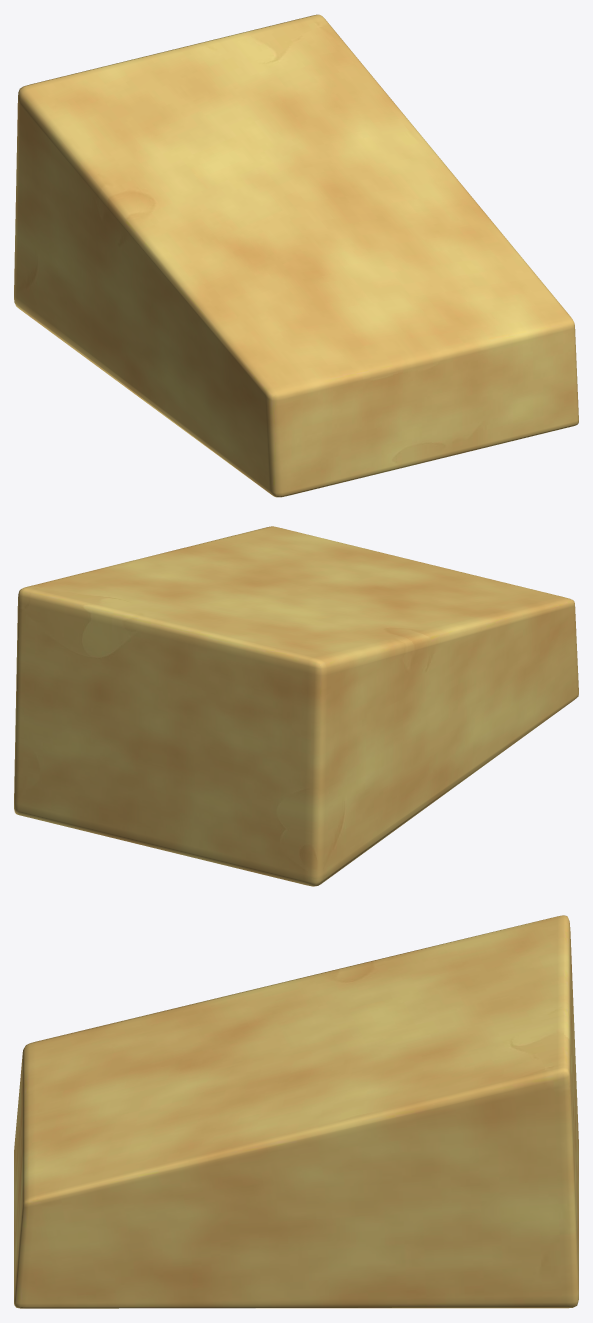
The model's file is cheese_wedge.glb.
The picture shows the model from 3 angles, top to bottom: view 1: azimuth 30°, elevation 25°; view 2: azimuth 150°, elevation 25°; view 3: azimuth 270°, elevation 25°; orthographic projection. The views are drawn at different scales.
Parts seen in each view (by area): view 1: Object_4; view 2: Object_4; view 3: Object_4.
Boxes of the visible parts, bbox=[...] form: Object_4: bbox=[14, 14, 578, 497]; Object_4: bbox=[14, 526, 578, 886]; Object_4: bbox=[14, 915, 578, 1308].
Bounding box in the file's own units: 0.0669 × 0.0469 × 0.1002.
Materials: 1 (1 with a texture image).
